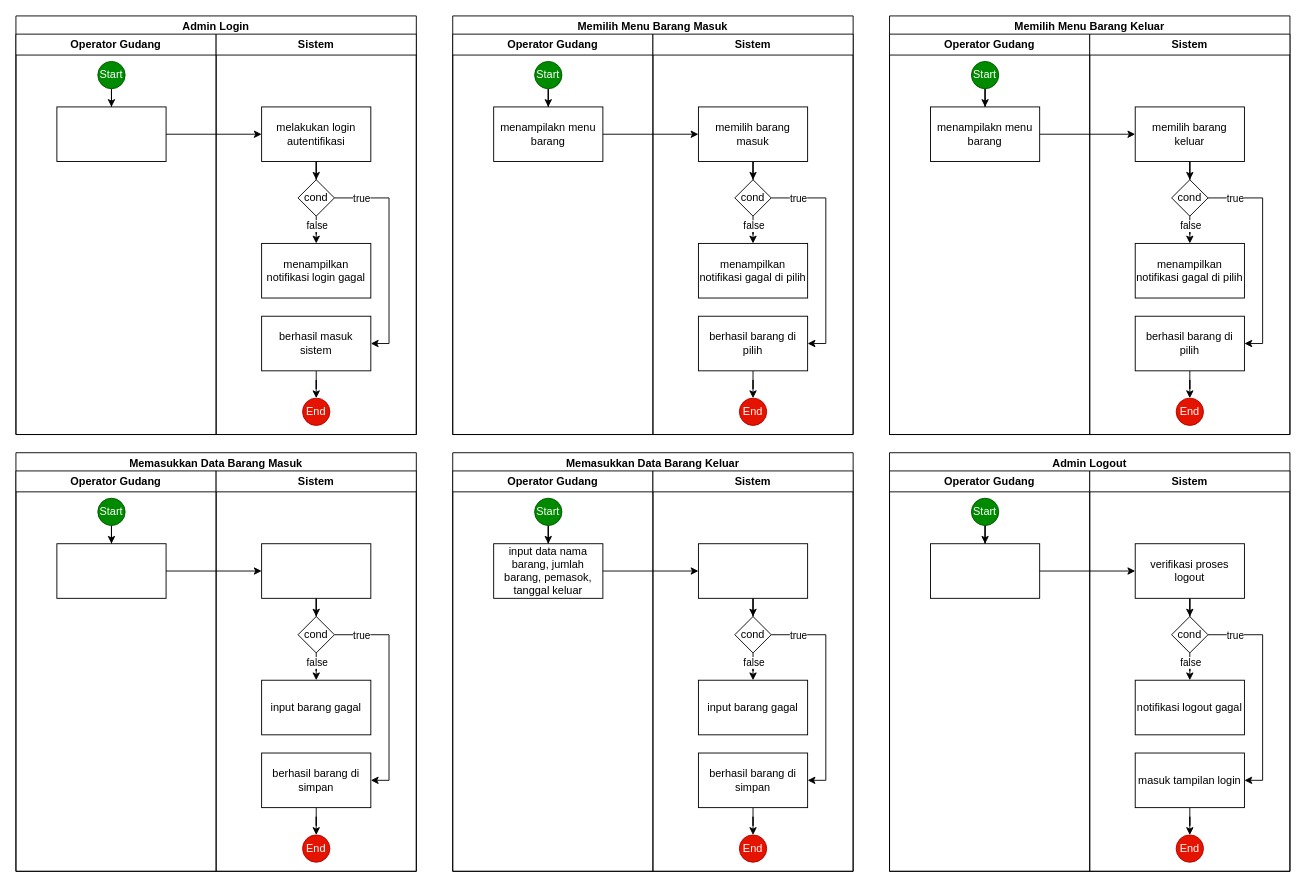
This 1306x887 diagram has some shape labels left out. The centre of each missing label's shape, as x and y in pixels:
input data nama barang, jumlah barang, pemasok, tanggal masuk: the point at 111,570
masukkan username dan password: the point at 111,134
Memilih tombol logout: the point at 985,570
validasi data keluar: the point at 753,570
validasi data masuk: the point at 316,570
